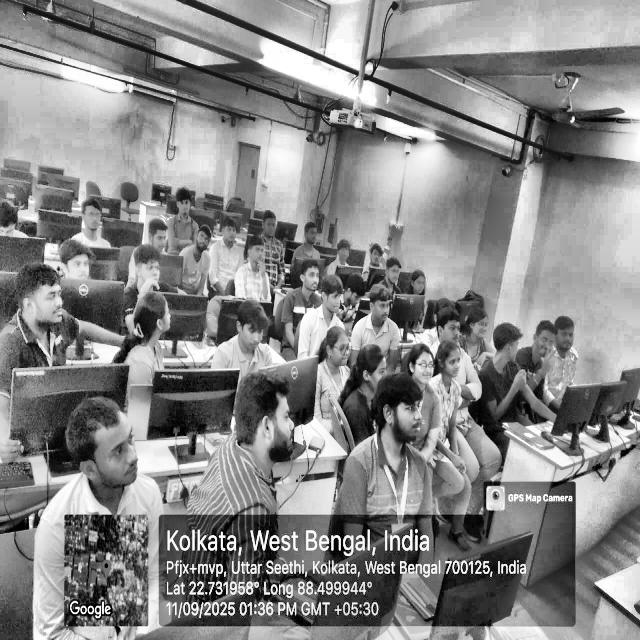Focus: (46, 140, 479, 557), (143, 171, 603, 502)
Not Focus: (135, 271, 230, 391)
